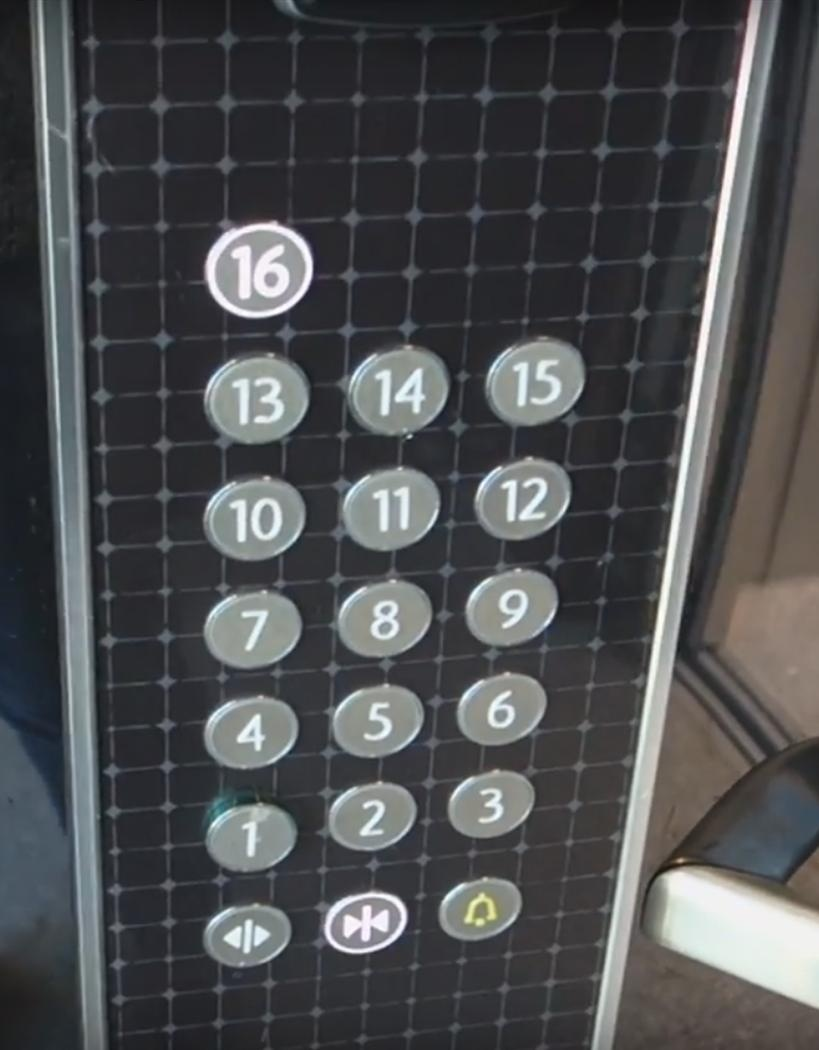1: (201, 801, 299, 876)
10: (199, 470, 305, 565)
11: (339, 466, 441, 554)
12: (472, 453, 574, 541)
13: (205, 350, 314, 445)
14: (344, 345, 453, 440)
15: (481, 334, 590, 429)
16: (203, 218, 314, 321)
2: (326, 782, 421, 852)
3: (446, 768, 536, 839)
4: (201, 694, 300, 773)
5: (331, 684, 428, 760)
6: (456, 670, 549, 747)
7: (200, 587, 302, 671)
8: (336, 577, 434, 659)
9: (463, 566, 561, 648)
alarm: (437, 876, 523, 943)
close: (319, 889, 410, 956)
open: (199, 901, 294, 971)
